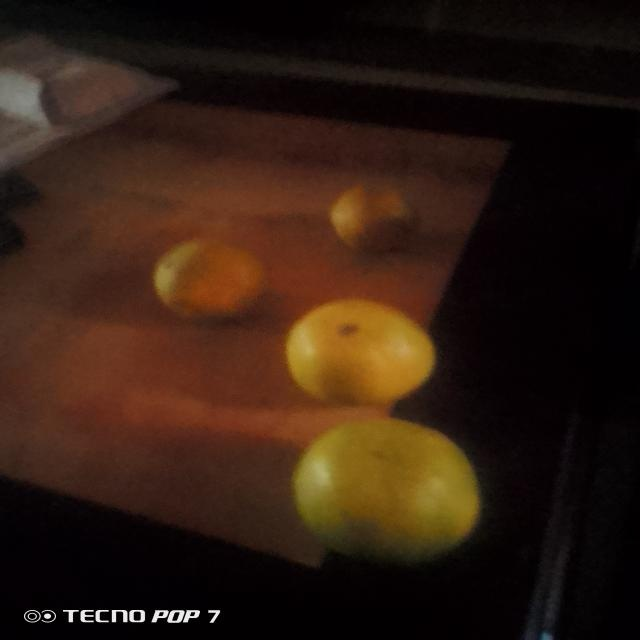agrume: (283, 425, 492, 561), (279, 296, 449, 416), (144, 231, 261, 316), (327, 182, 405, 249)
